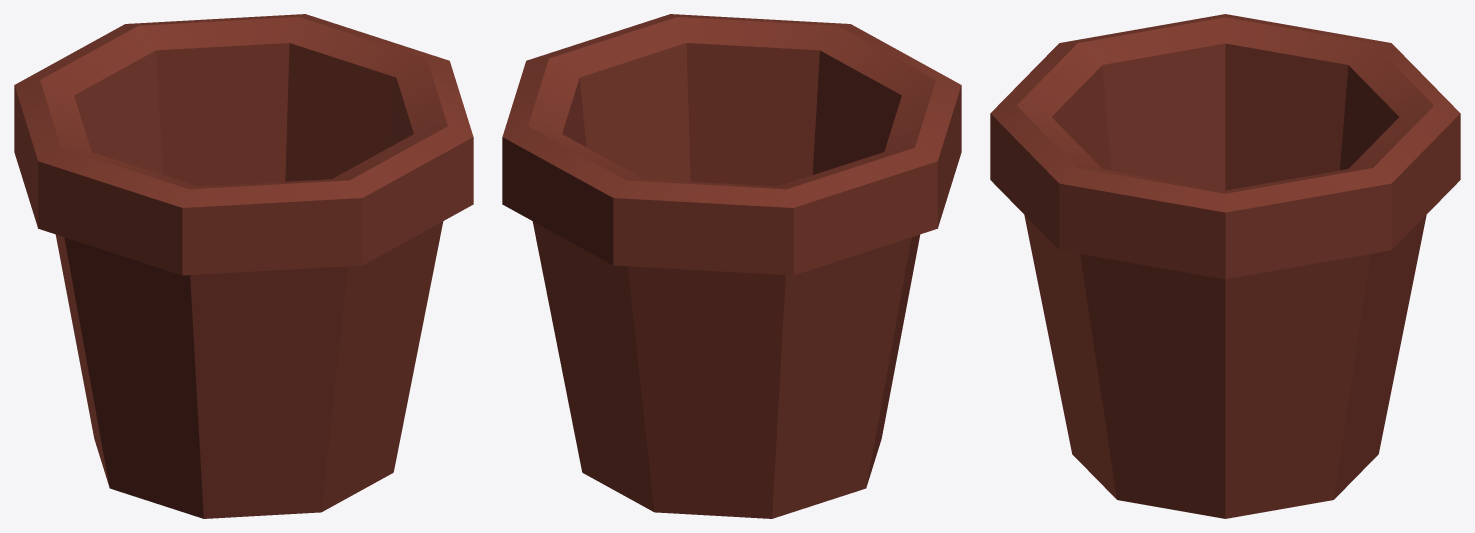
The model's file is PlantPot-1.fbx.
The picture shows the model from 3 angles, left to right: view 1: azimuth 30°, elevation 25°; view 2: azimuth 150°, elevation 25°; view 3: azimuth 270°, elevation 25°; orthographic projection.
Visible parts, largest first — view 1: PlantPot; view 2: PlantPot; view 3: PlantPot.
Boxes of the visible parts, x1,y1,x2,y2 form: PlantPot: (14, 14, 473, 518); PlantPot: (502, 14, 961, 518); PlantPot: (990, 14, 1460, 518).
Bounding box in the file's own units: 350 × 287 × 350.
